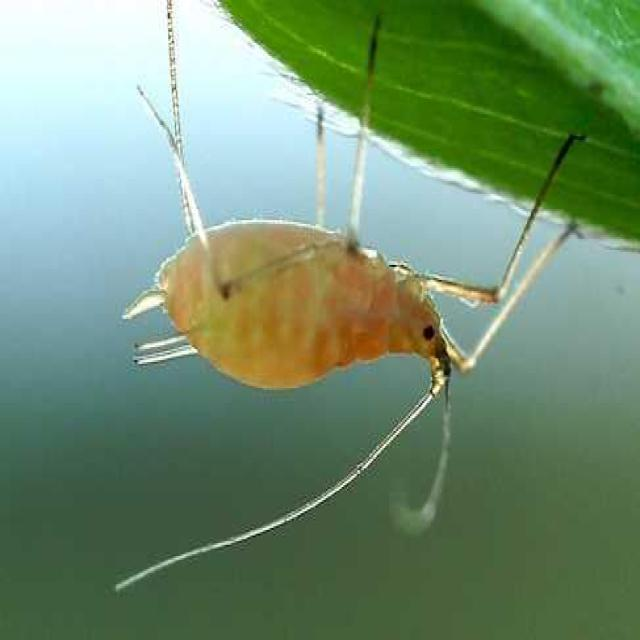Aphids: (97, 12, 583, 555)
